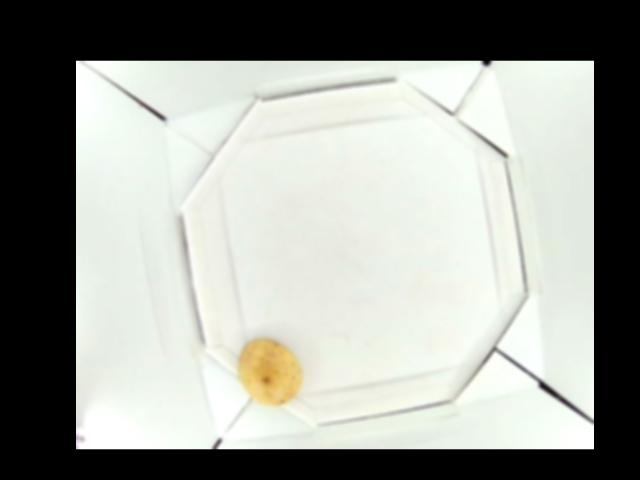Potato: (240, 338, 302, 407)
